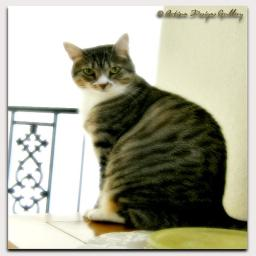catnose: (97, 81, 109, 89)
